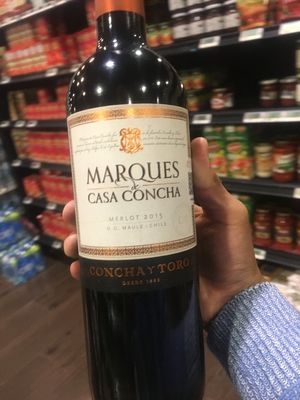marques de casa concha merlot: (60, 29, 218, 382)
